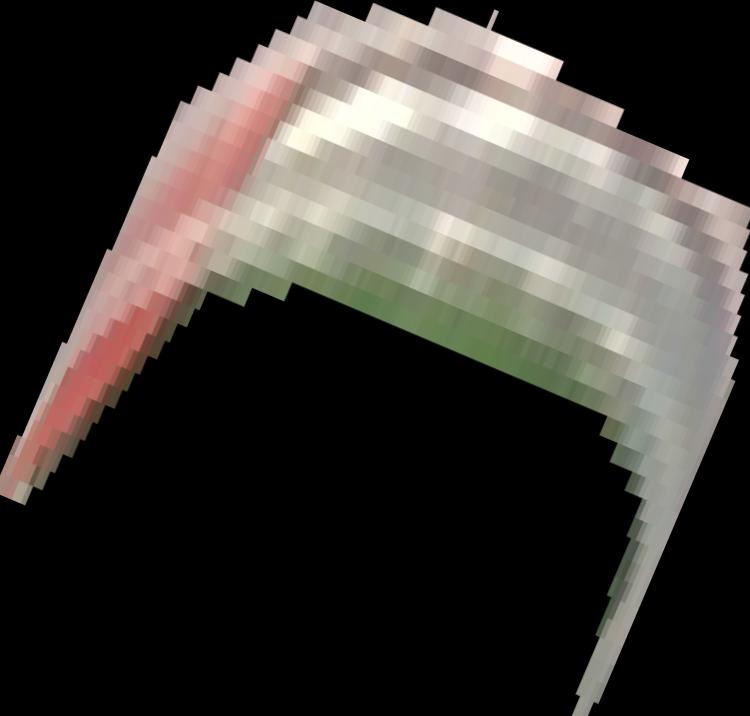head: (1, 1, 750, 715)
